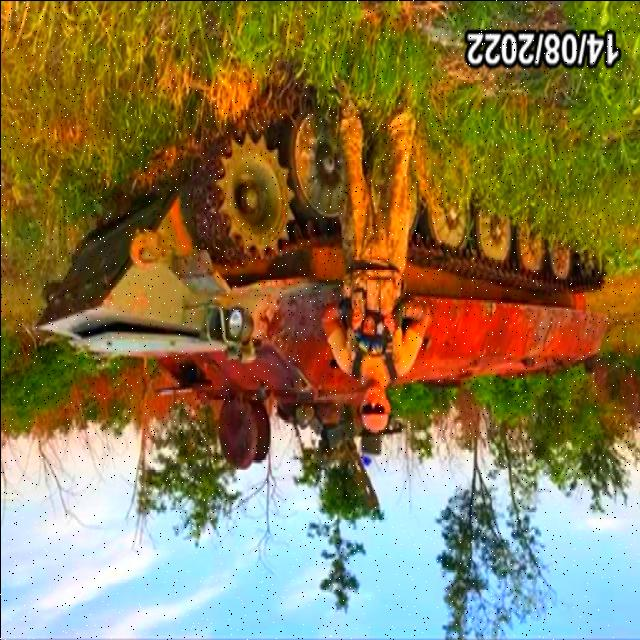APC-IFV: (35, 66, 627, 442)
